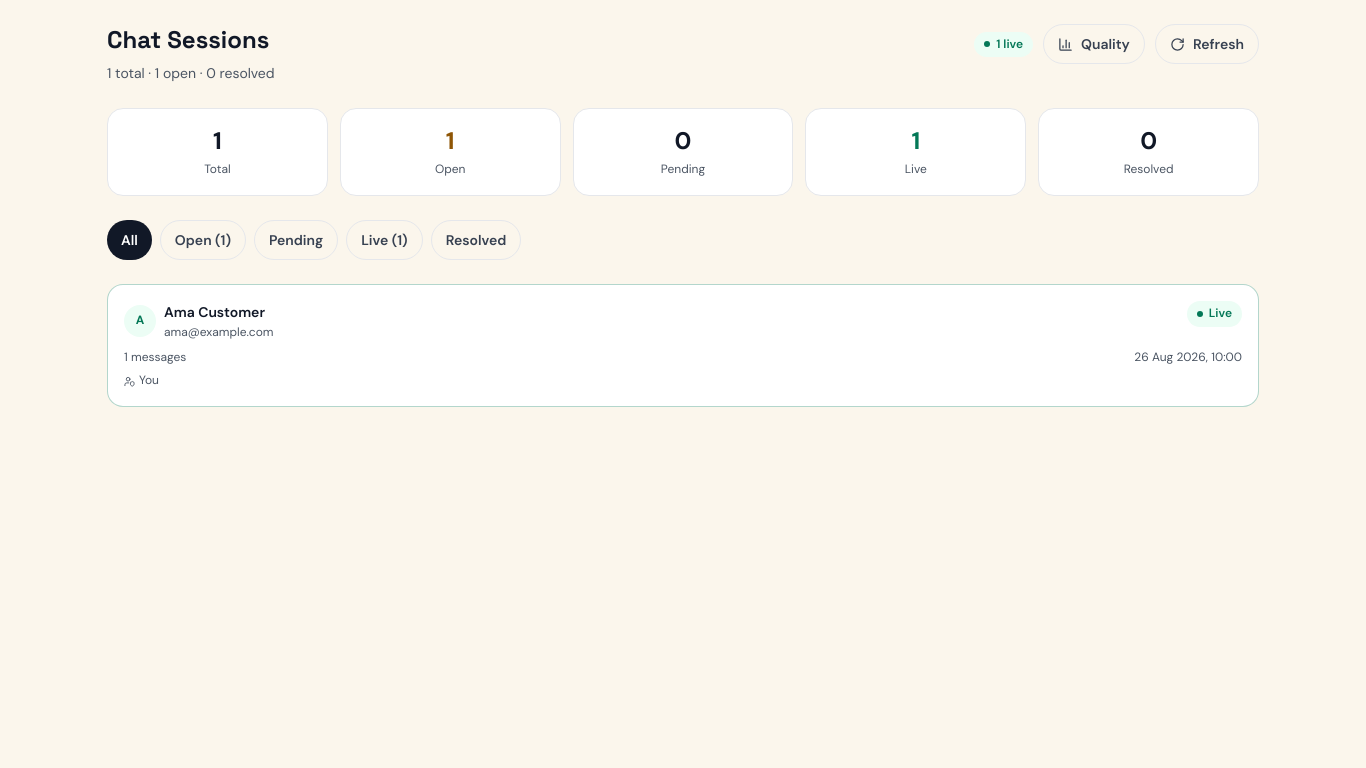
Test case: chat console — agent attribution (T69) › labels your own replies 'You'
Click the button "Ama Customer": coordinates (140, 321) [107,284,1259,407]
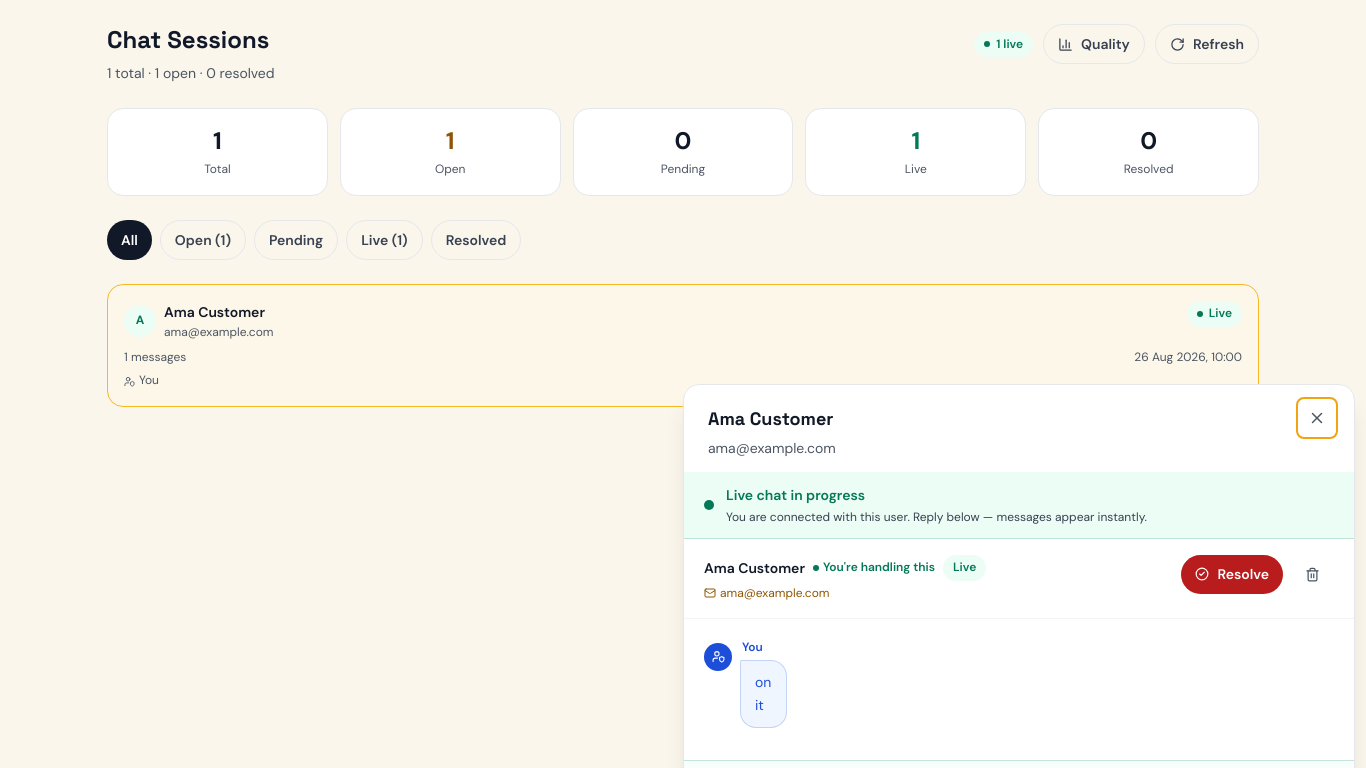
Now the text "You" below "You're handling this" is shown, box [742,639,763,655]
